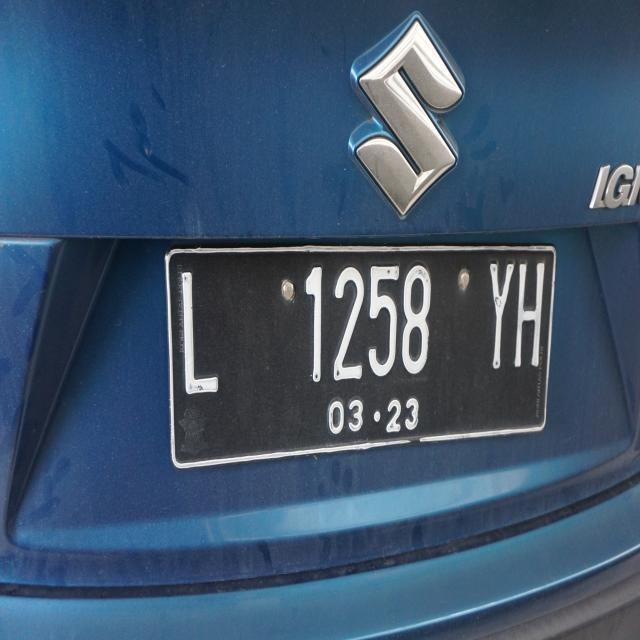1: (292, 263, 332, 386)
2: (330, 257, 368, 395)
5: (364, 252, 400, 384)
8: (402, 254, 432, 380)
H: (512, 251, 548, 379)
L: (163, 267, 232, 402)
Y: (484, 254, 516, 379)
